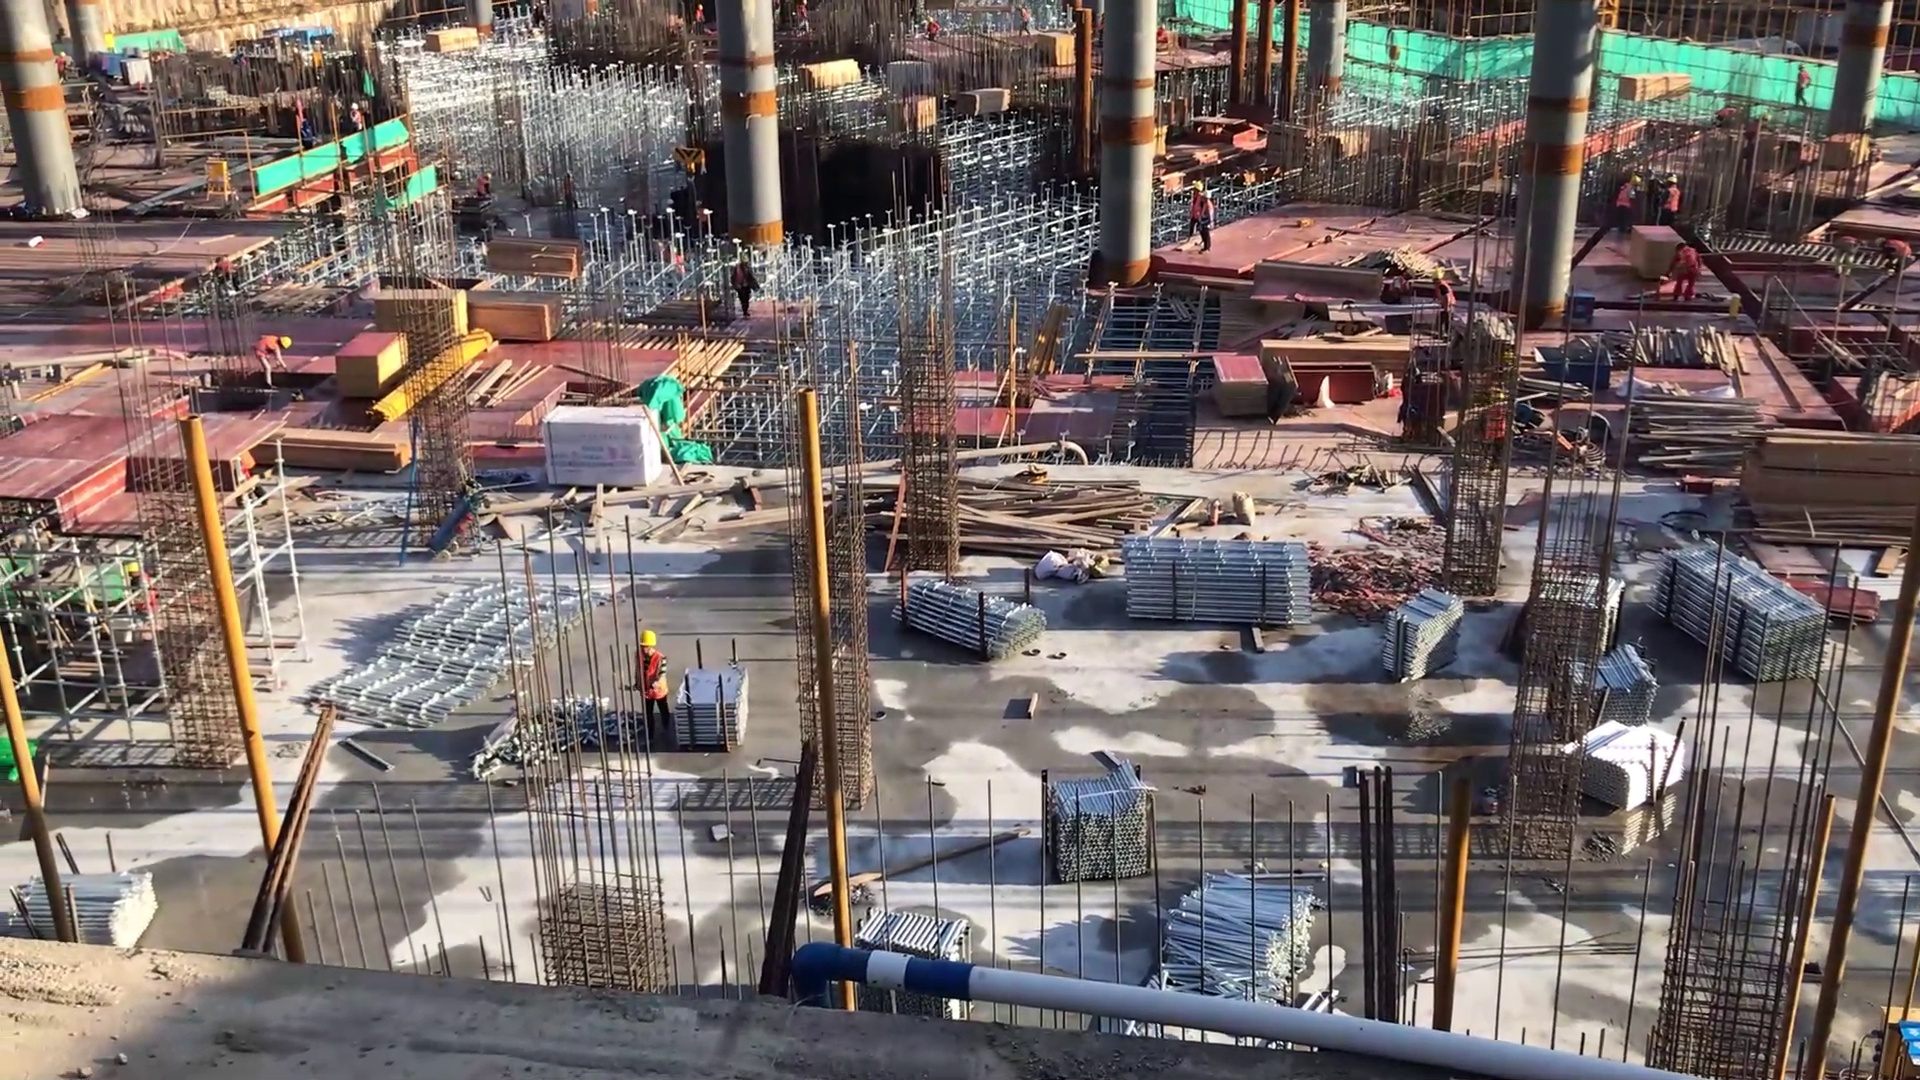board: (329, 329, 413, 402), (369, 287, 472, 346), (1780, 576, 1882, 632), (1209, 353, 1270, 418), (1031, 25, 1084, 72)
ebox: (198, 159, 241, 206)
helmet: (636, 626, 660, 650), (126, 562, 145, 582), (279, 333, 294, 353), (1431, 269, 1445, 285), (1404, 266, 1418, 282), (1628, 175, 1643, 189), (1667, 174, 1679, 188), (349, 101, 362, 112), (301, 118, 312, 128), (1200, 188, 1211, 200), (1193, 182, 1204, 194), (484, 172, 494, 181)
hook: (1537, 345, 1620, 395)
person: (619, 626, 677, 740), (227, 437, 273, 515), (123, 561, 163, 630), (252, 329, 295, 391), (1664, 238, 1704, 301), (1615, 171, 1644, 241), (1654, 172, 1685, 234), (732, 254, 760, 317), (1381, 269, 1419, 312), (1432, 271, 1457, 335), (1832, 234, 1867, 276), (1878, 232, 1912, 275), (210, 249, 239, 299), (1187, 178, 1206, 249), (1792, 60, 1815, 110), (1711, 99, 1744, 132), (1200, 187, 1216, 256), (297, 114, 316, 157), (474, 169, 495, 204), (345, 101, 365, 136), (691, 2, 711, 37)
scaffold: (1654, 535, 1831, 685), (1163, 863, 1335, 1016), (1111, 524, 1315, 638), (5, 859, 154, 973), (855, 903, 986, 1028), (873, 582, 1068, 657), (1040, 766, 1162, 886), (1548, 644, 1667, 749), (1381, 585, 1461, 686)
vest: (635, 651, 670, 705), (1674, 247, 1699, 278), (256, 333, 280, 364), (1618, 182, 1638, 213), (1435, 281, 1457, 309), (1661, 186, 1680, 217), (1886, 239, 1910, 262), (1200, 201, 1216, 233)
wood: (1744, 421, 1920, 542), (963, 476, 1148, 561), (1627, 384, 1766, 484), (1262, 335, 1426, 379), (265, 427, 412, 471), (474, 233, 587, 284), (460, 288, 566, 340), (792, 56, 867, 97), (1620, 71, 1698, 104), (951, 89, 1021, 122)
